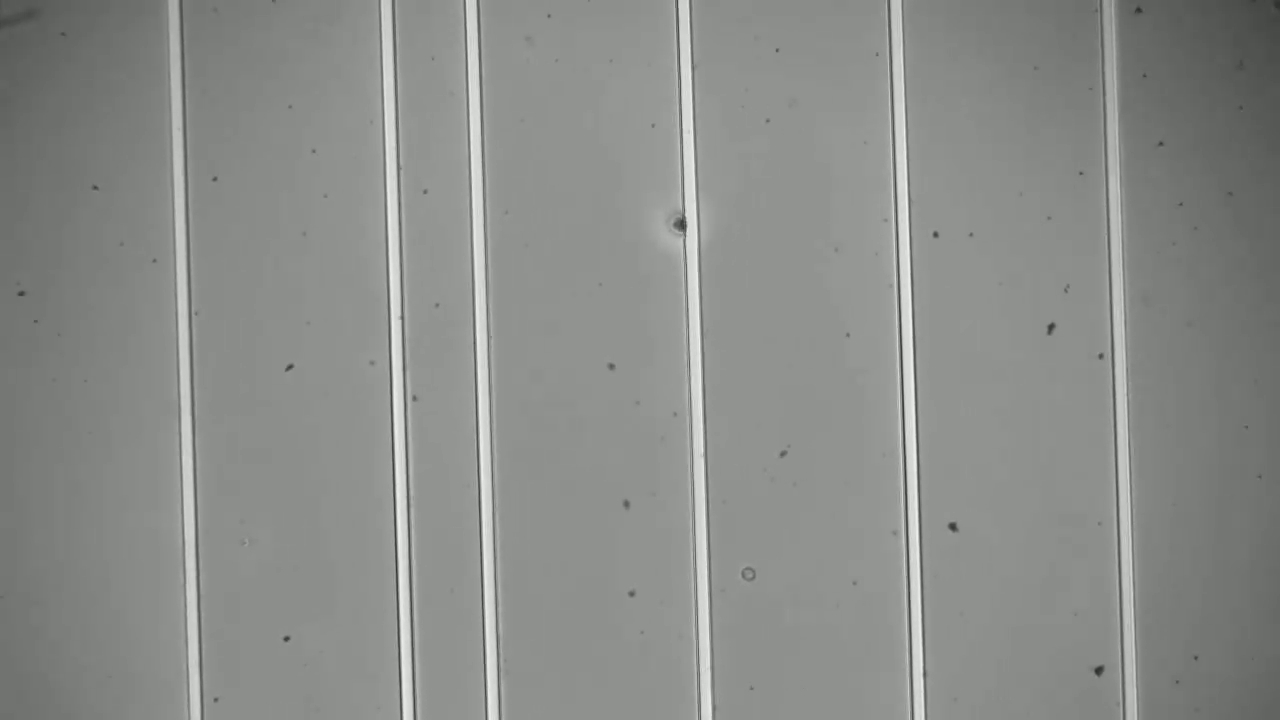stains_enbedded: (662, 205, 707, 243)
